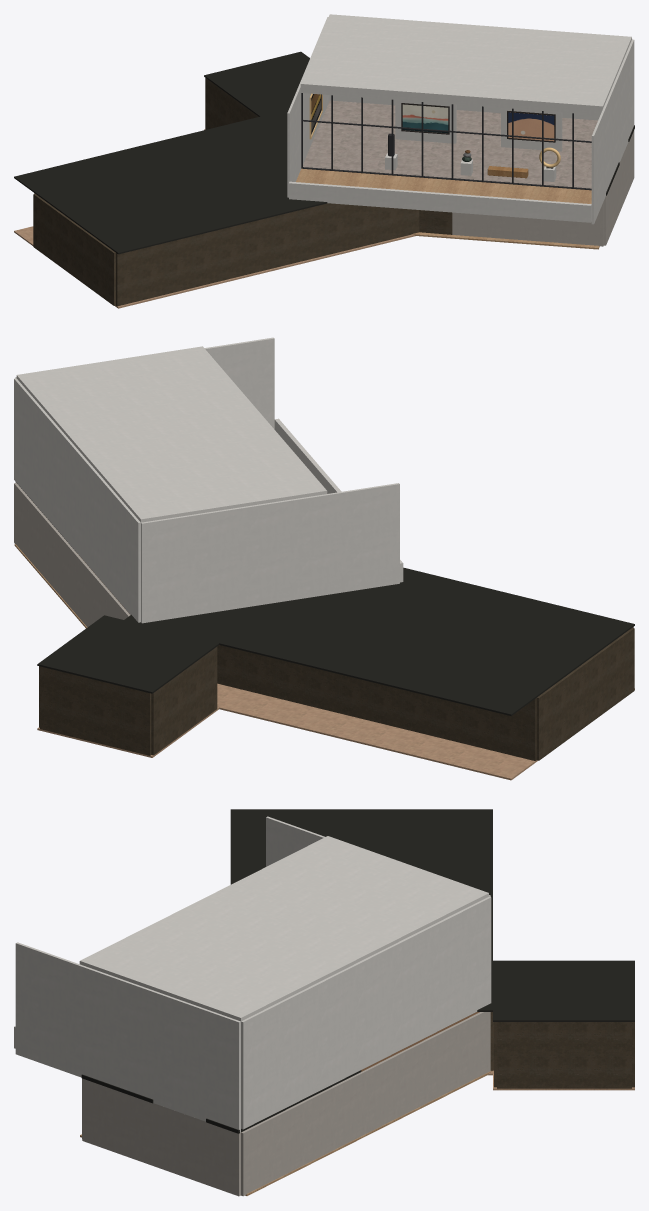
Rendered from gallery.glb.
3 renders of one model, top to bottom at view 1: azimuth 30°, elevation 25°; view 2: azimuth 150°, elevation 25°; view 3: azimuth 270°, elevation 25°, orthographic. The views are drawn at different scales.
Visible parts, largest first — view 1: roof, walls_a, walls_b, room, art_roof, floor_a, floor_b; view 2: roof, walls_a, room, floor_a, walls_b; view 3: roof, walls_b, room, walls_a, floor_b.
Part boxes in pixels (left/top/right/bottom): roof: left=287, top=14, right=634, bottom=224; walls_a: left=14, top=109, right=419, bottom=306; walls_b: left=419, top=125, right=634, bottom=246; room: left=204, top=51, right=309, bottom=130; art_roof: left=309, top=93, right=555, bottom=142; floor_a: left=14, top=226, right=415, bottom=308; floor_b: left=411, top=232, right=599, bottom=249; roof: left=14, top=337, right=403, bottom=623; walls_a: left=124, top=567, right=634, bottom=760; room: left=37, top=615, right=219, bottom=757; floor_a: left=217, top=683, right=634, bottom=780; walls_b: left=14, top=481, right=130, bottom=627; roof: left=14, top=816, right=491, bottom=1132; walls_b: left=81, top=1012, right=490, bottom=1196; room: left=493, top=960, right=634, bottom=1090; walls_a: left=230, top=809, right=493, bottom=1070; floor_b: left=80, top=1071, right=491, bottom=1195.
Size of what is drawn, in the model's own units: 39.27 by 10.25 by 32.17.
63 materials, 47 textured.
